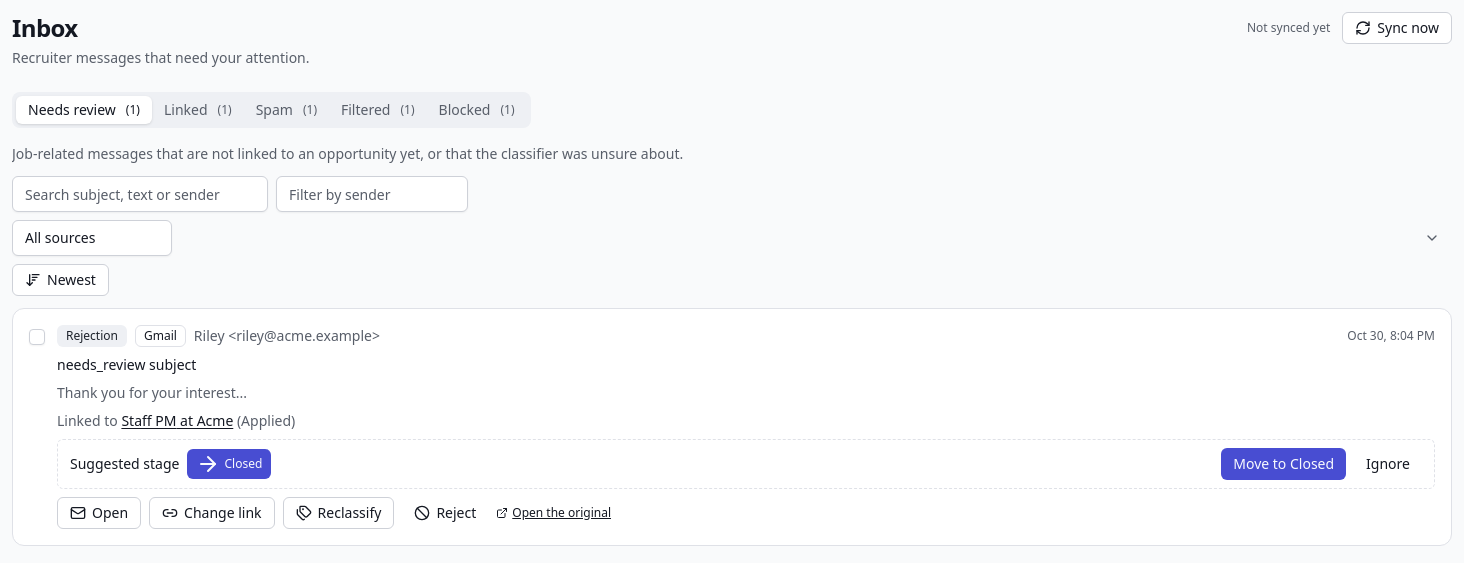
Test: Inbox › has the four views and lists each from its own query
The width and height of the screenshot is (1464, 563).
Expected: the tab "Needs review (1)" is shown, [16,96,152,124]
Expected: the tab "Linked (1)" is shown, [152,96,244,124]
Click the tab "Spam (1)" at point(286, 110), box [244,96,329,124]
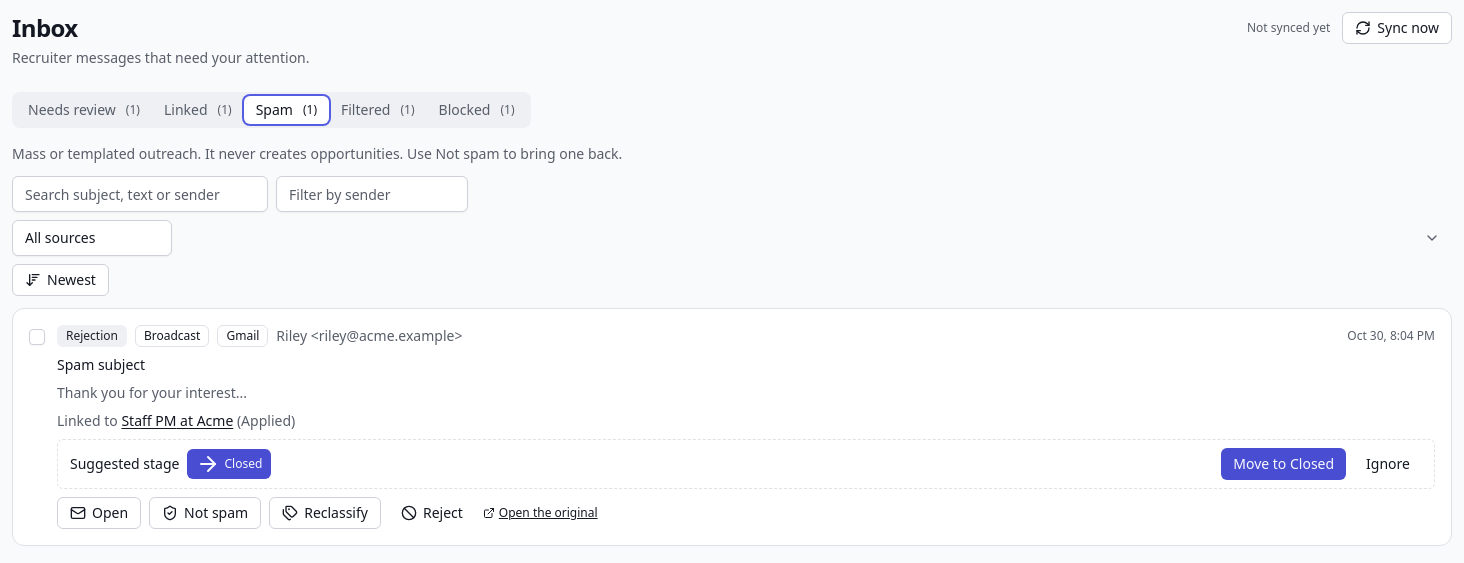
Expected: the button "Sync now" is shown, [1342,12,1452,44]
Expected: the button "Spam subject" is shown, [57,355,145,375]
Expected: the button "Not spam" is shown, [149,497,261,529]
